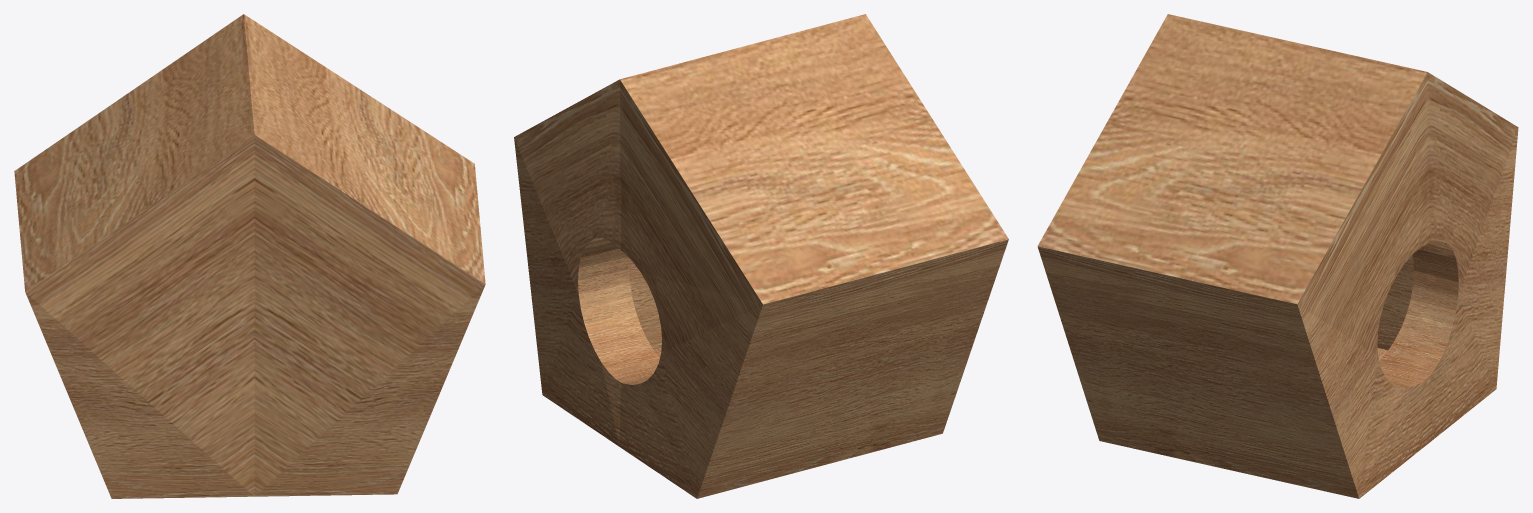
Rendered from CasaPajaro.fbx.
The picture shows the model from 3 angles, left to right: view 1: azimuth 30°, elevation 25°; view 2: azimuth 150°, elevation 25°; view 3: azimuth 270°, elevation 25°; orthographic projection. The views are drawn at different scales.
Parts seen in each view (by area): view 1: CasaPajaro3; view 2: CasaPajaro3; view 3: CasaPajaro3.
Boxes of the visible parts, x1,y1,x2,y2 form: CasaPajaro3: (14,14,485,498); CasaPajaro3: (514,14,1008,498); CasaPajaro3: (1037,14,1518,498).
Bounding box in the file's own units: 222 × 164 × 192.
